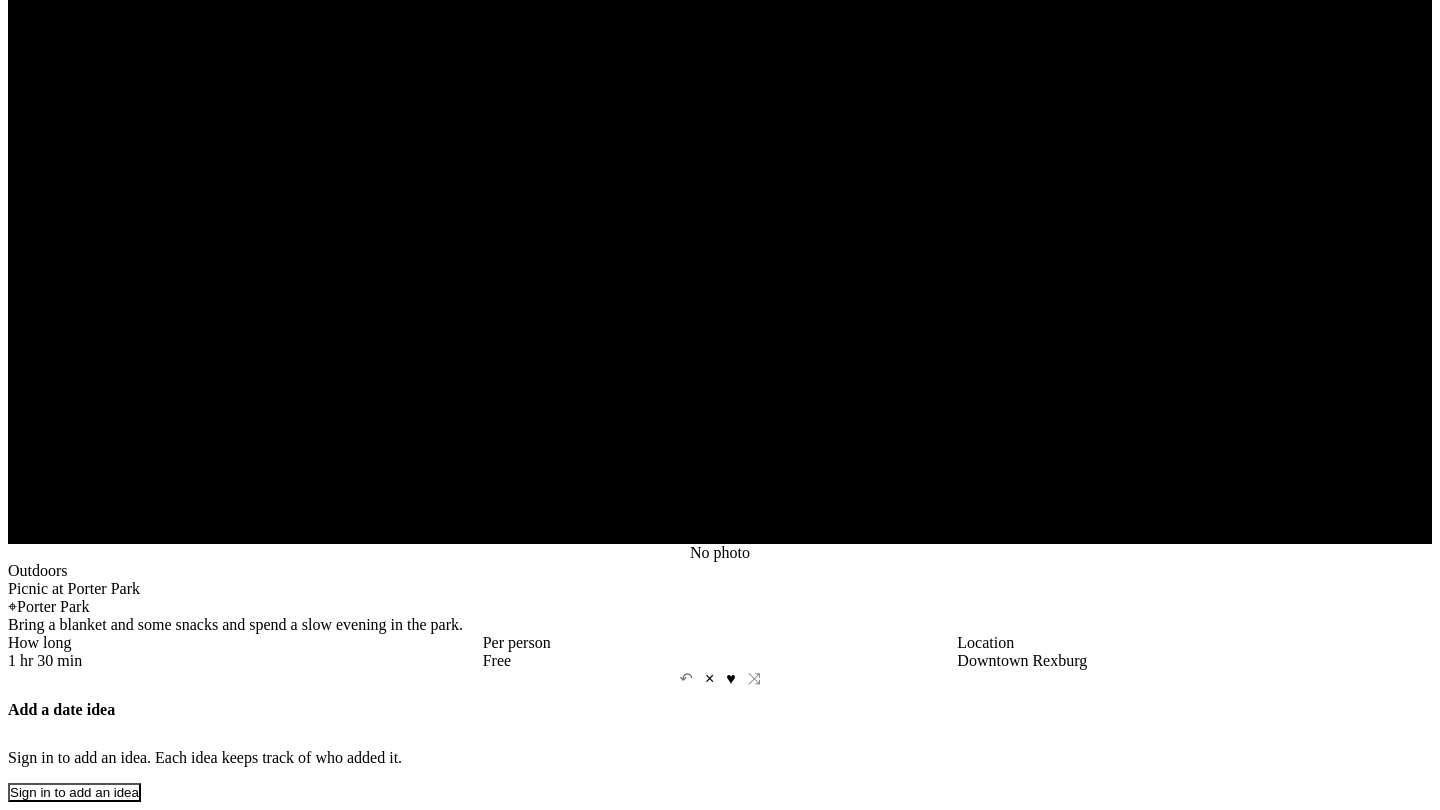
Scenario: Home deck › moves to the next idea when you hide one
This screenshot has width=1440, height=810.
(page scrolled)
Click the button named "Hide Picnic at Porter Park". click: (710, 679)
box: [699, 670, 720, 688]
(page scrolled)
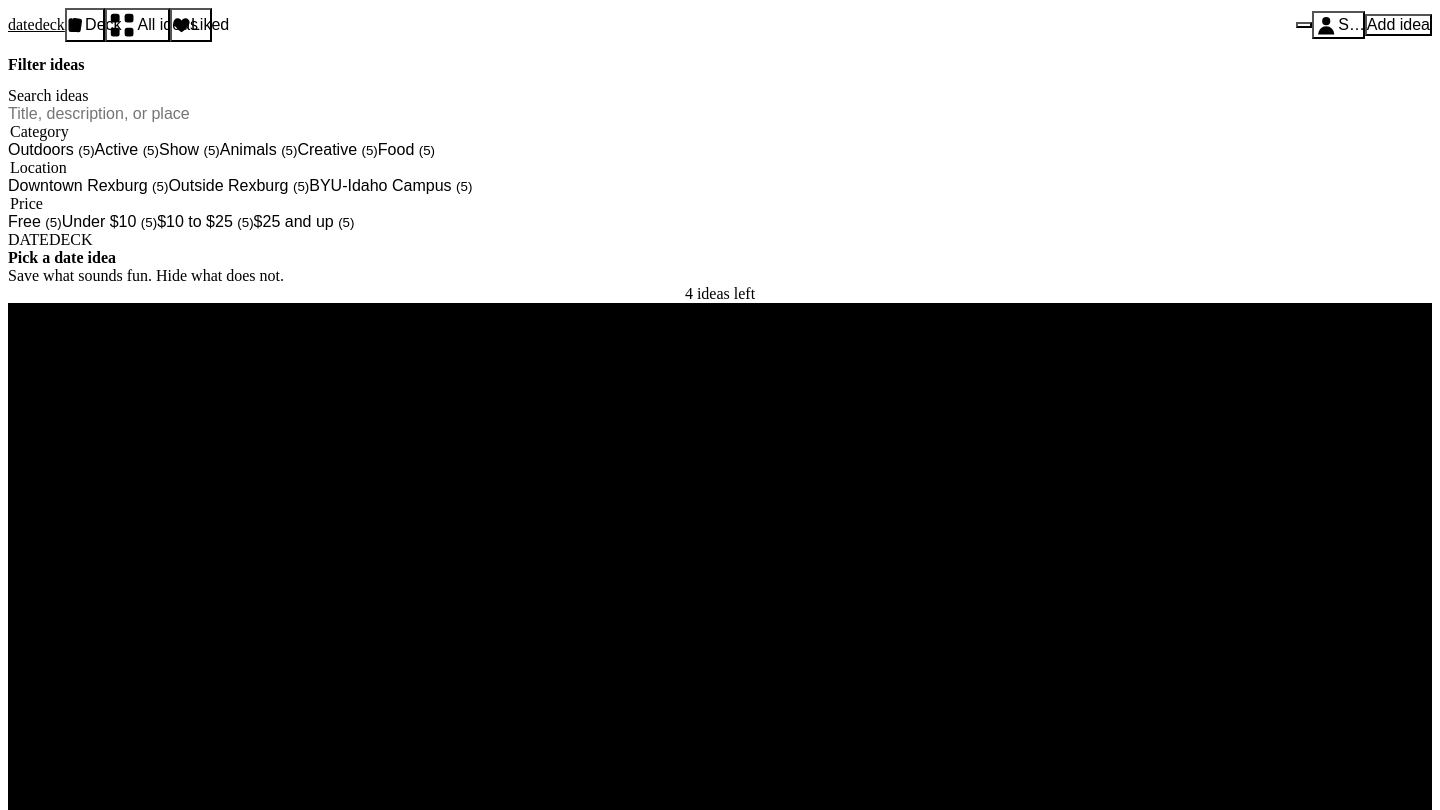
expect the text "4 ideas left" is shown: met, box [685, 285, 755, 302]
